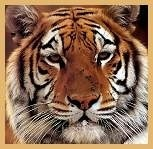tigre: (7, 6, 147, 143)
